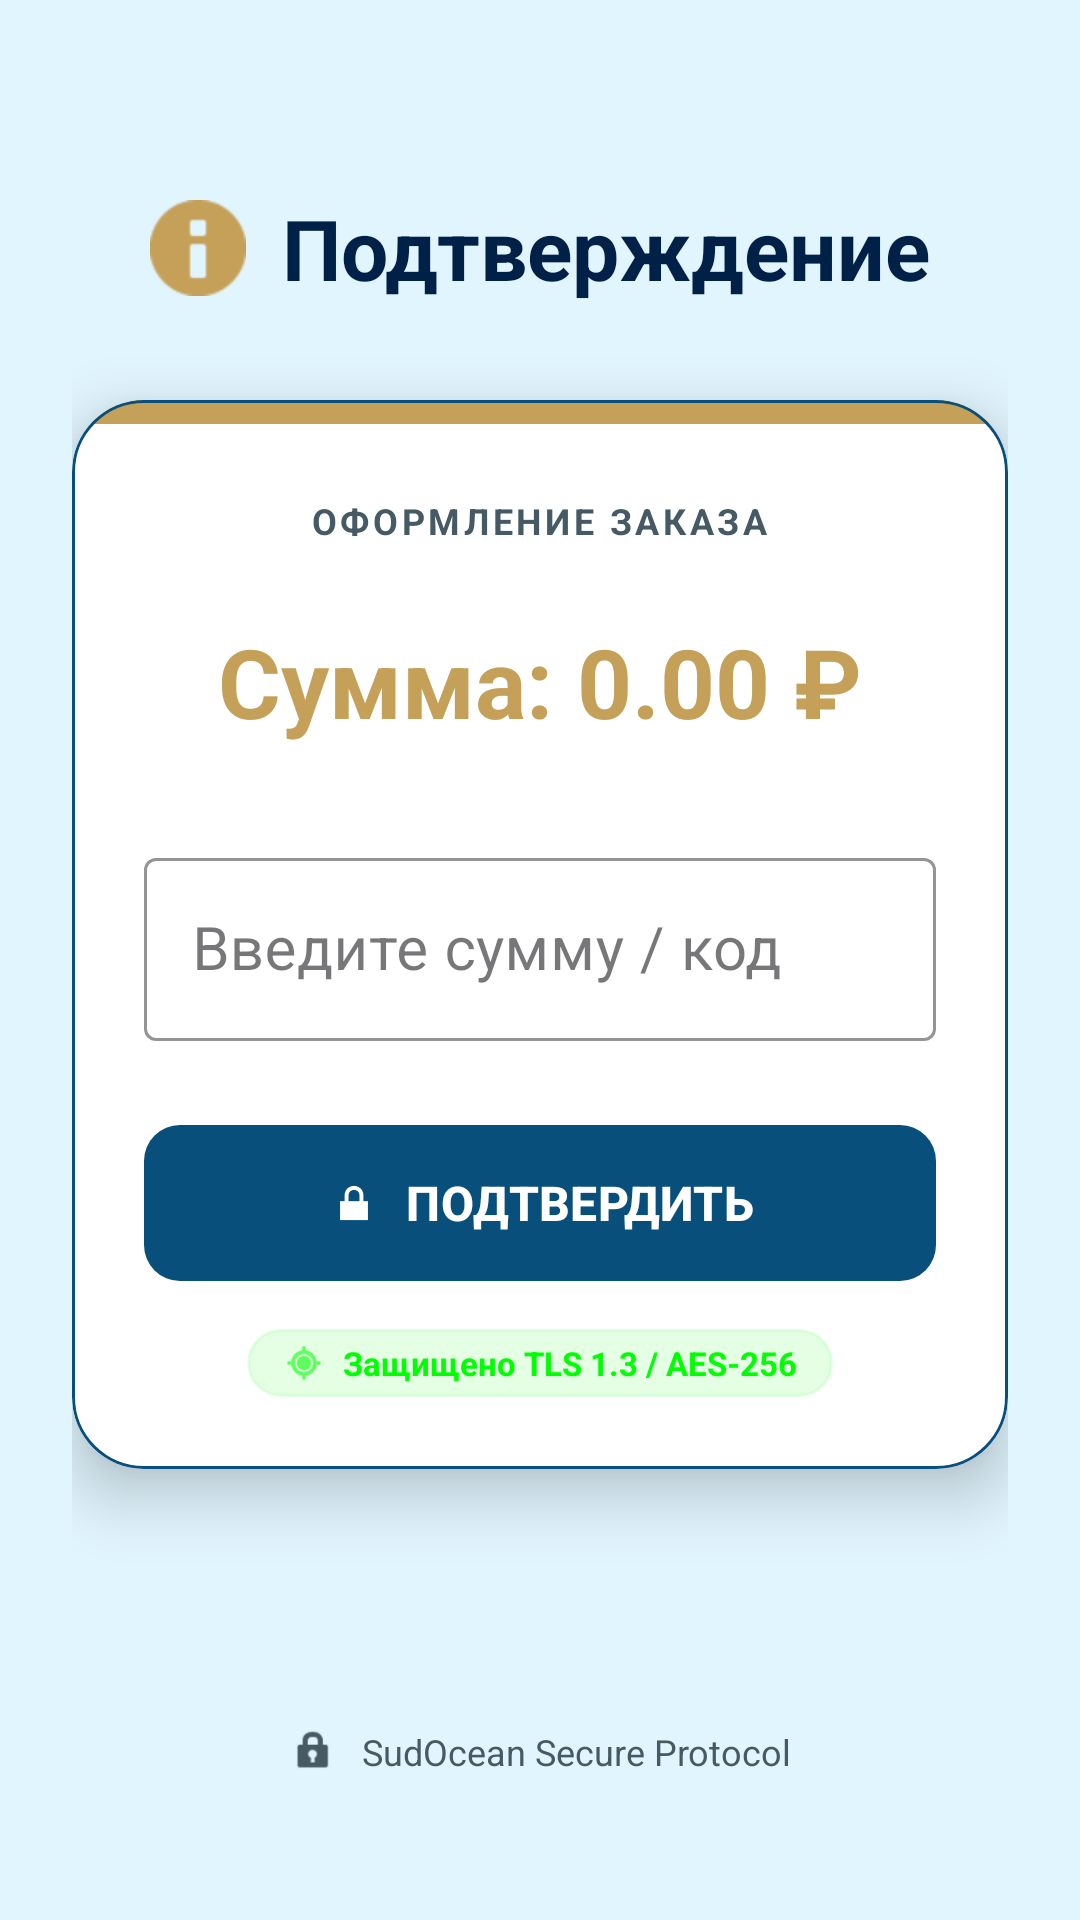

Icons on this 1080×1920 Android screen, each with its box as (x1, y1, x2, y2):
info: (150, 200, 246, 296)
lock idle: (297, 1731, 329, 1768)
mylocation: (287, 1346, 321, 1380)
